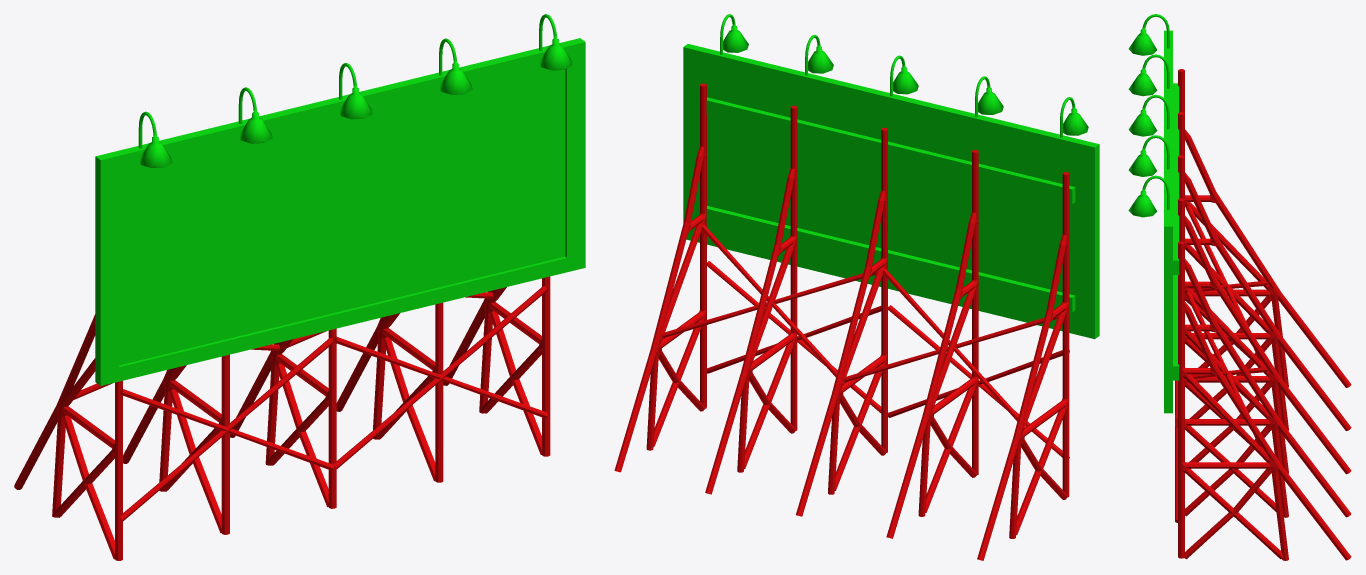
Rendered from Billboard.fbx.
The picture shows the model from 3 angles, left to right: view 1: azimuth 30°, elevation 25°; view 2: azimuth 150°, elevation 25°; view 3: azimuth 270°, elevation 25°; orthographic projection. The views are drawn at different scales.
Visible parts, largest first — view 1: BillBoard; view 2: BillBoard; view 3: BillBoard.
Boxes of the visible parts, x1,y1,x2,y2 form: BillBoard: [14, 14, 585, 560]; BillBoard: [614, 14, 1099, 560]; BillBoard: [1128, 14, 1351, 560].
Bounding box in the file's own units: 1335 × 1205 × 643.
